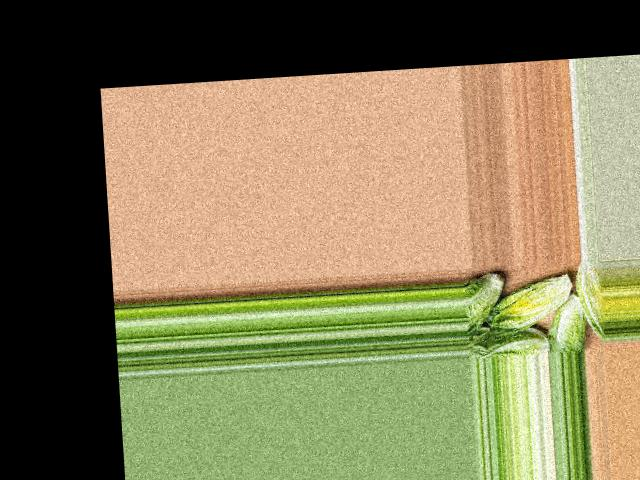lettuce: (572, 261, 605, 341)
